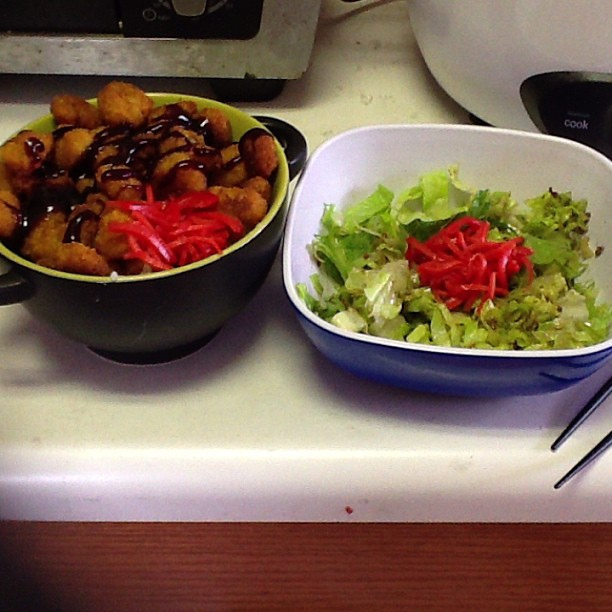chopped lettuce: (321, 184, 606, 351)
meatballs: (2, 89, 245, 258)
